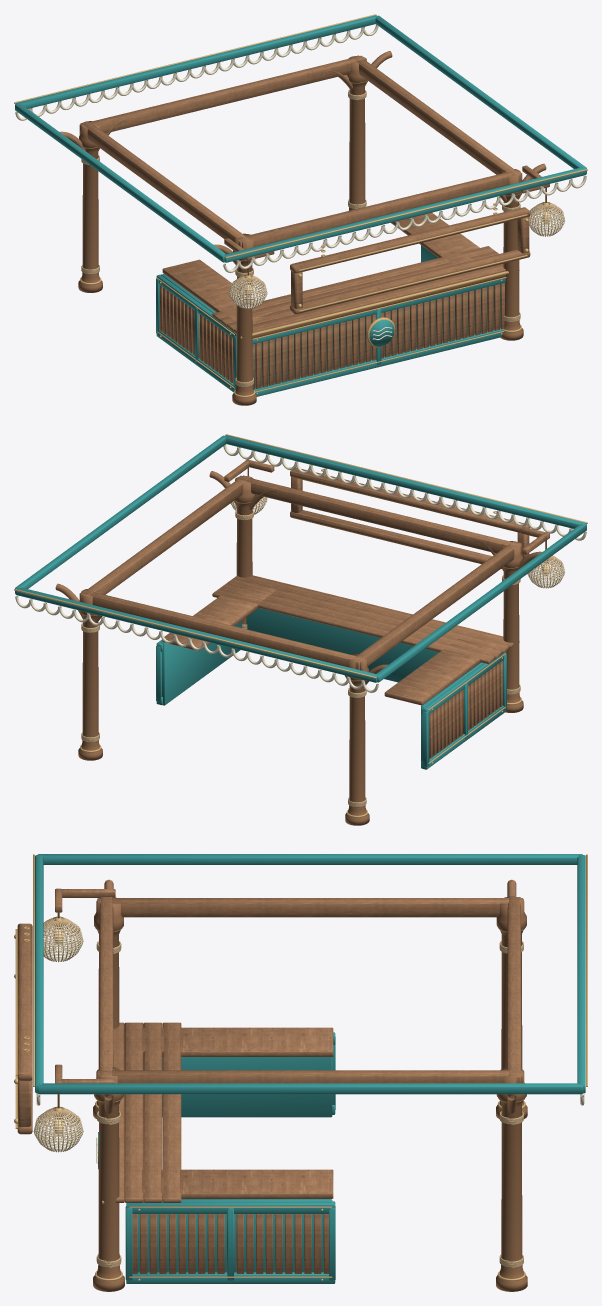
The model's file is kiosk_facade.glb.
The picture shows the model from 3 angles, top to bottom: view 1: azimuth 30°, elevation 25°; view 2: azimuth 150°, elevation 25°; view 3: azimuth 270°, elevation 25°; orthographic projection. The views are drawn at different scales.
Visible parts, largest first — view 1: facade_teak, facade_paint, facade_brass, facade_ivory, facade_rope, facade_shadow_wood; view 2: facade_teak, facade_paint, facade_ivory, facade_brass, facade_rope; view 3: facade_teak, facade_paint, facade_rope, facade_brass, facade_ivory.
Part boxes in pixels (left/top/right/bottom): facade_teak: left=60, top=51, right=549, bottom=405; facade_paint: left=15, top=15, right=586, bottom=396; facade_brass: left=14, top=14, right=587, bottom=397; facade_ivory: left=15, top=24, right=586, bottom=340; facade_rope: left=81, top=90, right=564, bottom=386; facade_shadow_wood: left=247, top=187, right=546, bottom=338; facade_teak: left=55, top=459, right=549, bottom=825; facade_paint: left=15, top=435, right=586, bottom=769; facade_ivory: left=15, top=444, right=586, bottom=692; facade_brass: left=14, top=434, right=587, bottom=817; facade_rope: left=81, top=497, right=564, bottom=807; facade_teak: left=17, top=879, right=527, bottom=1291; facade_paint: left=35, top=854, right=585, bottom=1283; facade_rope: left=33, top=916, right=523, bottom=1267; facade_brass: left=14, top=854, right=587, bottom=1280; facade_ivory: left=34, top=919, right=584, bottom=1163.
Size of the model in its own units: 6.56 by 3.03 by 6.84.
7 materials, 1 textured.
